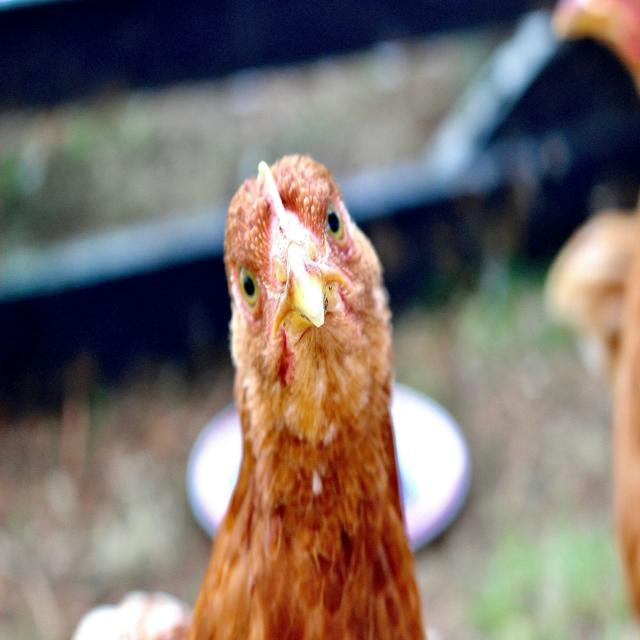Chicken: (162, 157, 479, 640)
